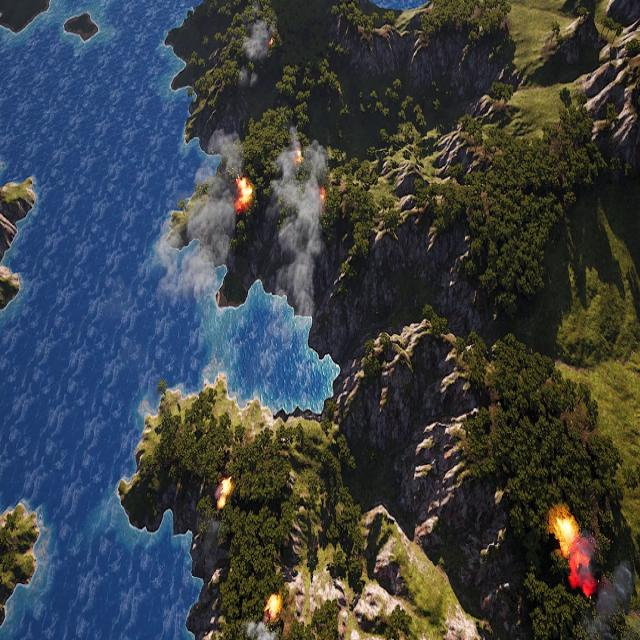fire: (553, 516, 578, 556), (235, 177, 254, 212), (216, 478, 232, 510), (266, 594, 282, 618), (293, 144, 305, 167), (318, 184, 326, 203)
smoke: (154, 124, 249, 300), (266, 122, 327, 333), (565, 533, 636, 639), (236, 14, 268, 90), (245, 618, 272, 640)
